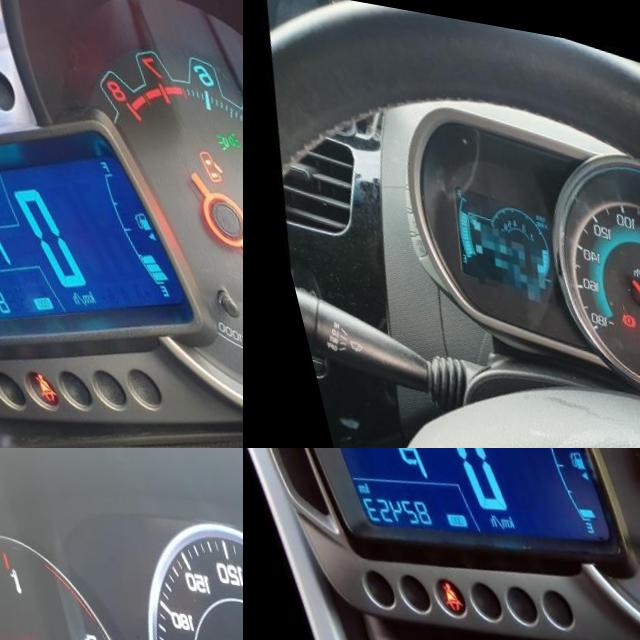Doors: (185, 130, 216, 168)
SideLamp: (202, 109, 235, 138)
